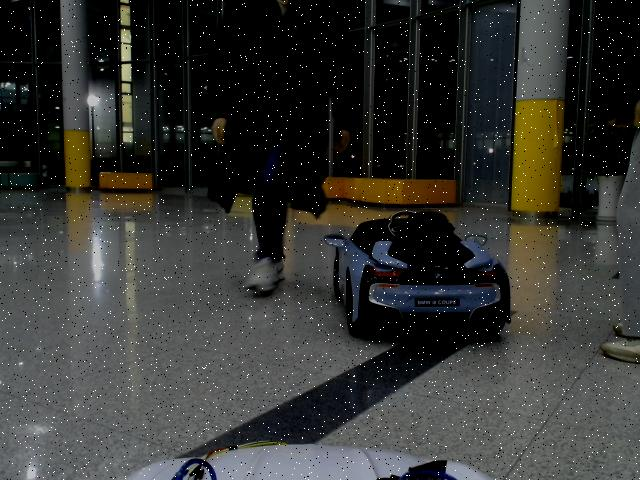car: (324, 210, 511, 339)
